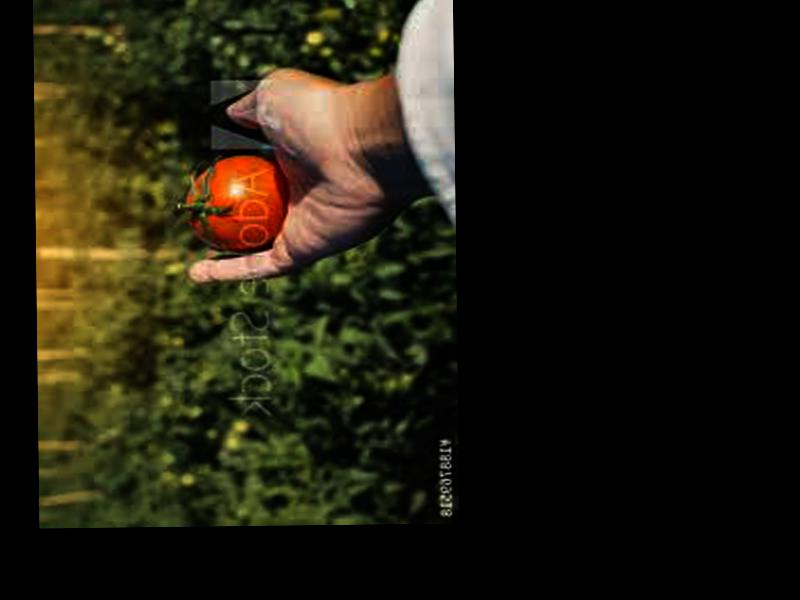Tomato: (186, 157, 284, 254)
